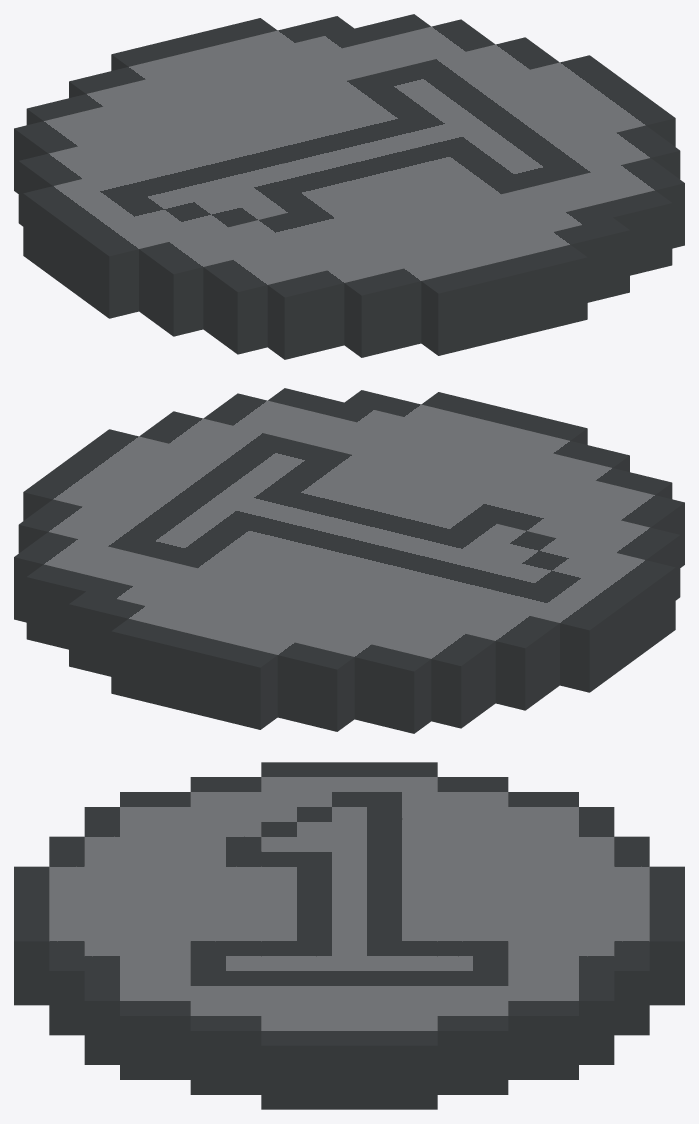
3 renders of one model, top to bottom at view 1: azimuth 30°, elevation 25°; view 2: azimuth 150°, elevation 25°; view 3: azimuth 270°, elevation 25°, orthographic. The views are drawn at different scales.
Visible parts, largest first — view 1: Object; view 2: Object; view 3: Object.
Part boxes in pixels (x1=…): Object: x1=14, y1=14, x2=684, y2=359; Object: x1=14, y1=388, x2=684, y2=733; Object: x1=14, y1=762, x2=684, y2=1109.
Bounding box in the file's own units: 19 × 2 × 19.
Materials: 1 (1 with a texture image).
